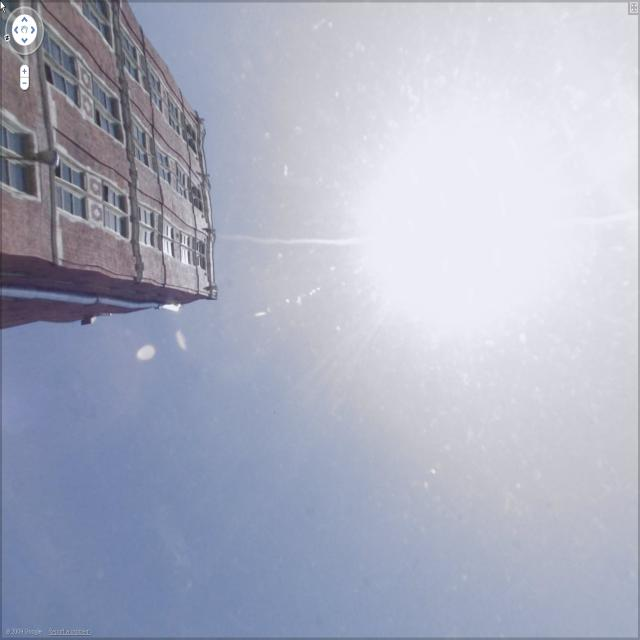b_1: (0, 2, 234, 307)
